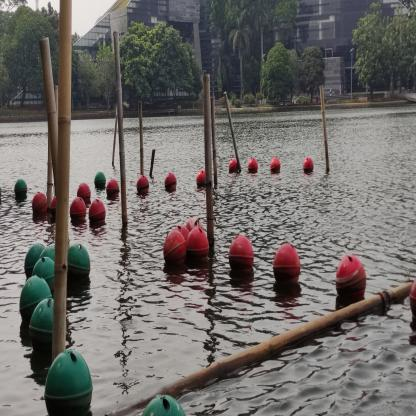green_buoy: (43, 349, 94, 415), (19, 276, 53, 324), (29, 298, 54, 354), (140, 393, 188, 415), (68, 242, 91, 283), (32, 258, 55, 296), (24, 244, 45, 280), (14, 176, 28, 200), (94, 171, 106, 191), (39, 247, 56, 261)
red_buoy: (336, 254, 366, 303), (273, 243, 300, 287), (228, 232, 255, 273), (163, 231, 187, 267), (187, 229, 209, 260), (186, 213, 204, 240), (31, 192, 48, 219), (88, 199, 106, 224), (70, 197, 86, 223), (174, 224, 189, 247), (409, 277, 416, 323), (301, 155, 316, 176), (106, 178, 119, 200), (77, 182, 90, 204), (164, 172, 178, 192), (136, 175, 150, 194), (49, 195, 57, 222), (248, 157, 259, 175), (270, 157, 281, 174), (195, 170, 206, 187), (228, 158, 239, 173)
